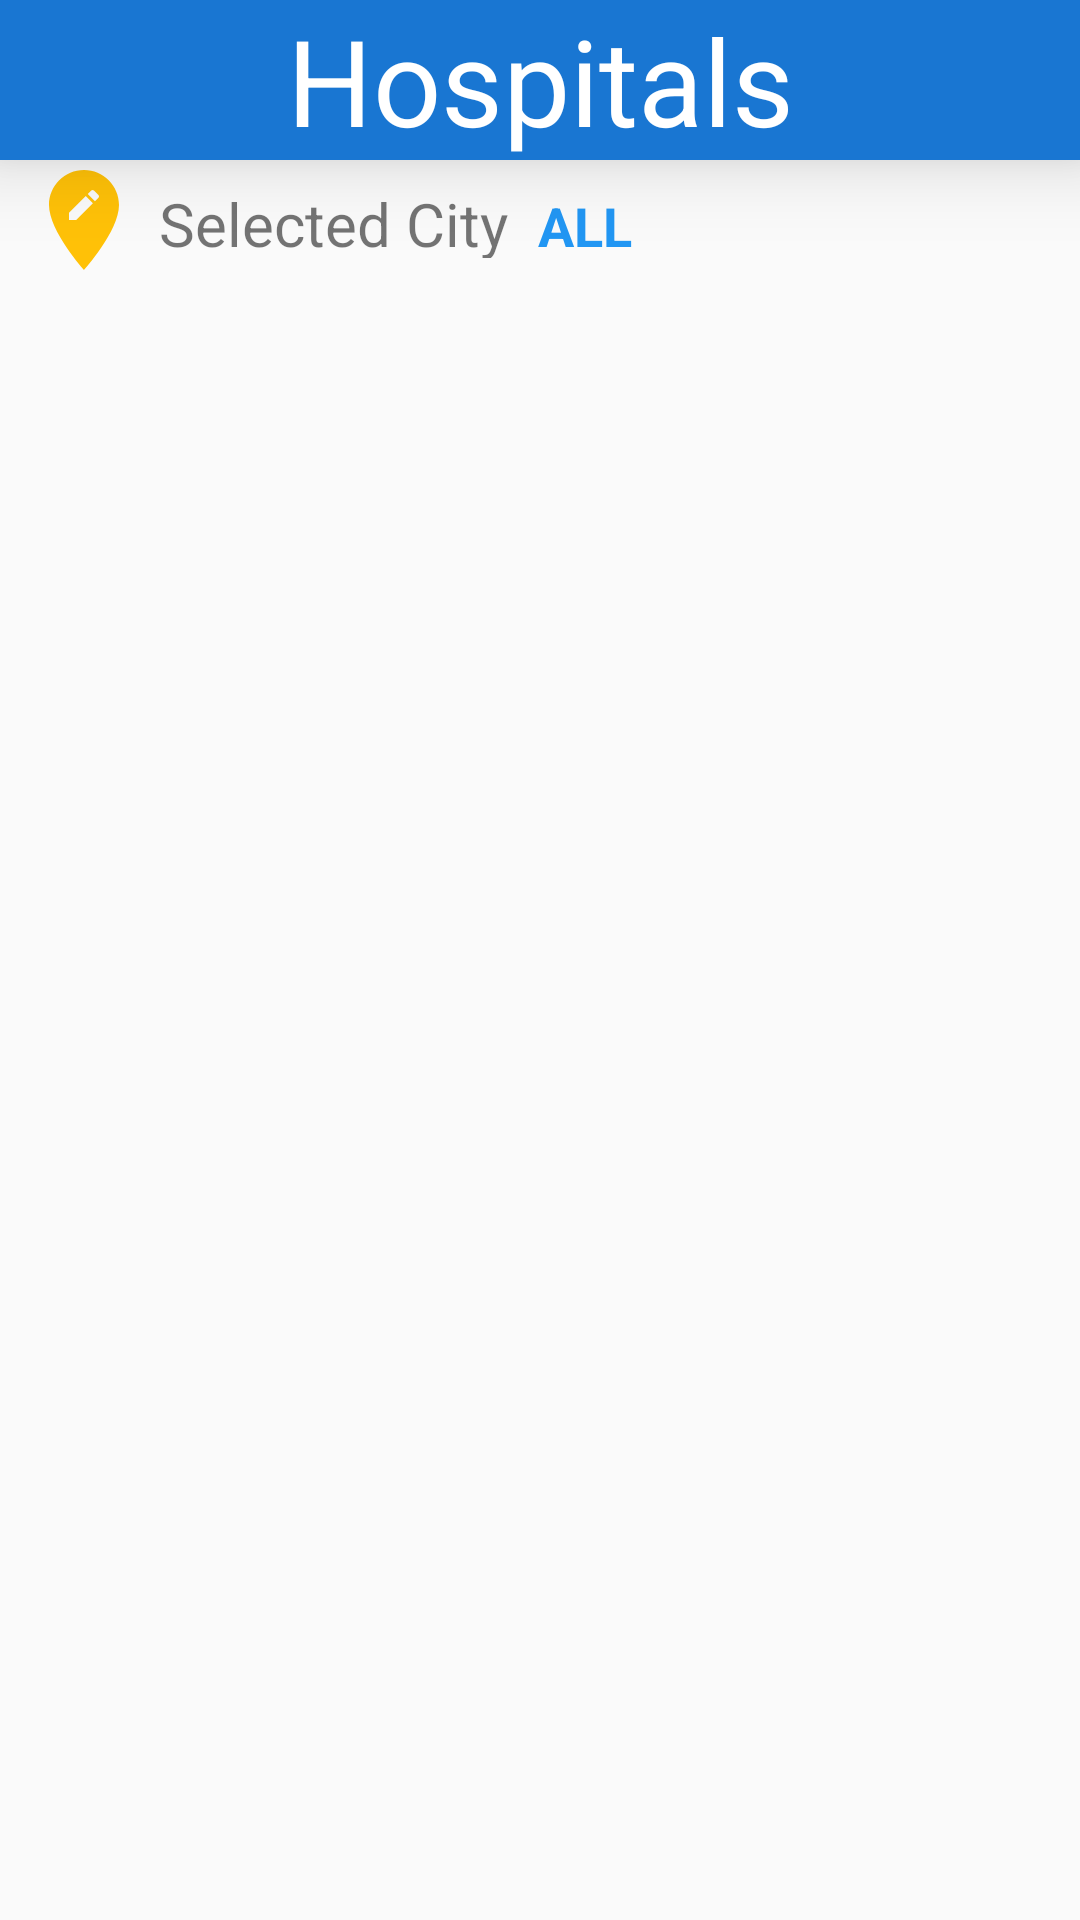

Named icons in this screenshot (1080px x 1920px) and their centers, [x,y]:
edit location: [84,220]
